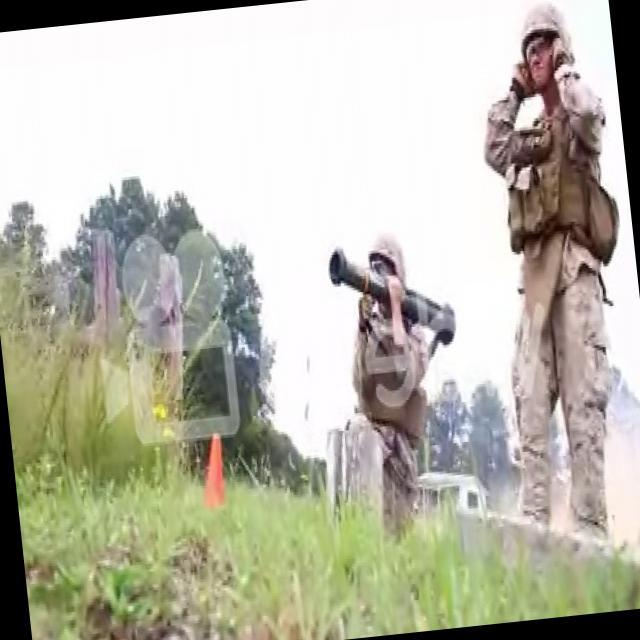rocket: (324, 232, 458, 358)
